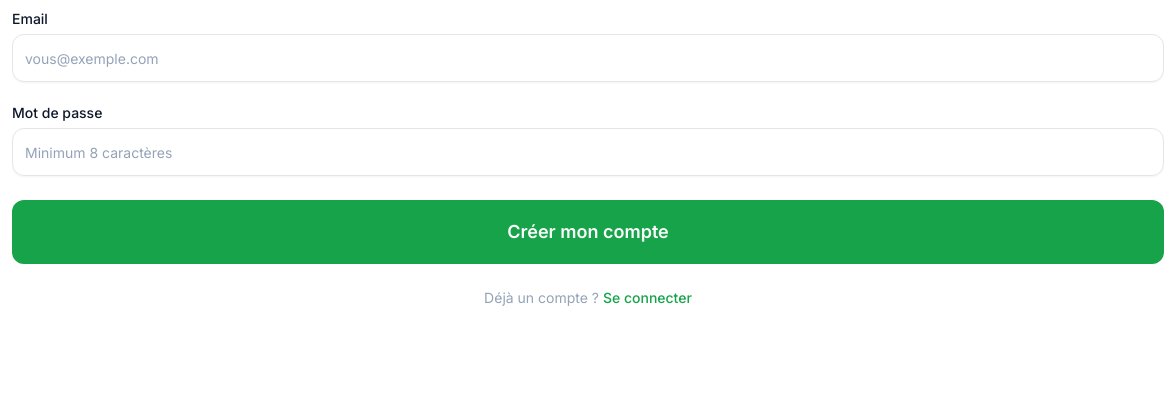
Test case: RegisterForm › should display generic error message for unknown errors
The image size is (1176, 401).
In the field labelled "Email": [588, 58] box [12,34,1164,82], type "test@example.com"
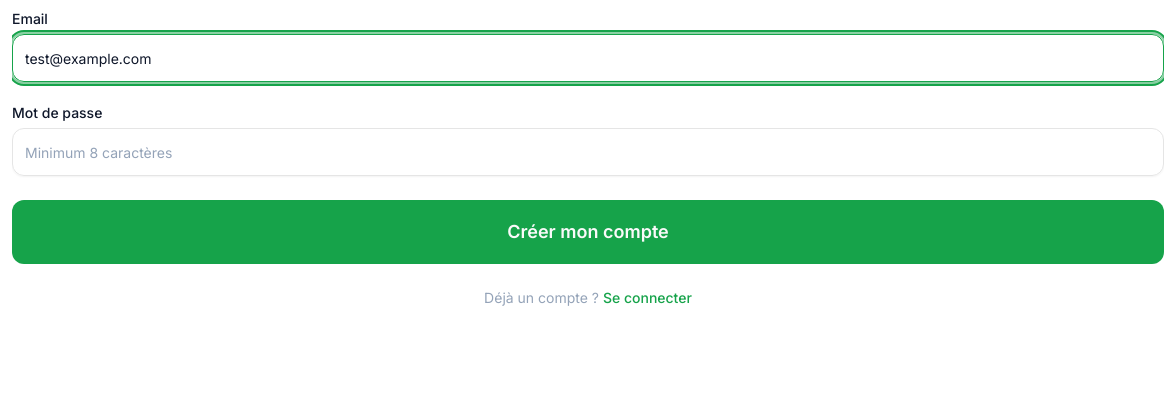
In the password field labelled "Mot de passe": [588, 152] box [12,128,1164,176], type "password123"
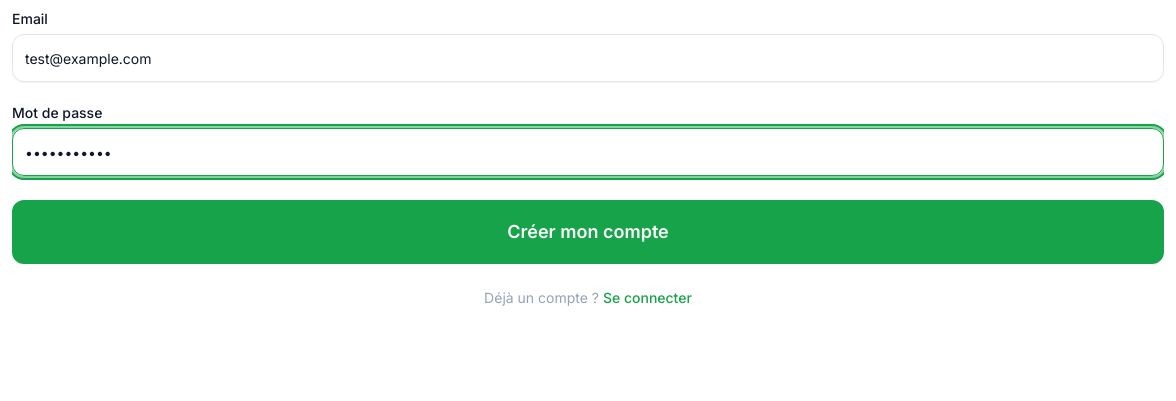
Click the button "Créer mon compte": [588, 232] box [12,200,1164,264]
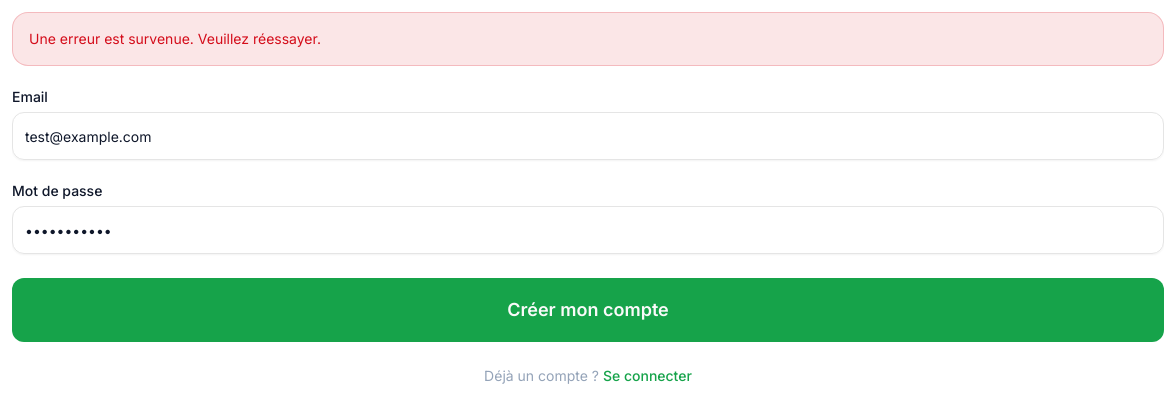
Now the text "Une erreur est survenue. Veuillez réessayer." is shown, box [12,12,1164,66]
